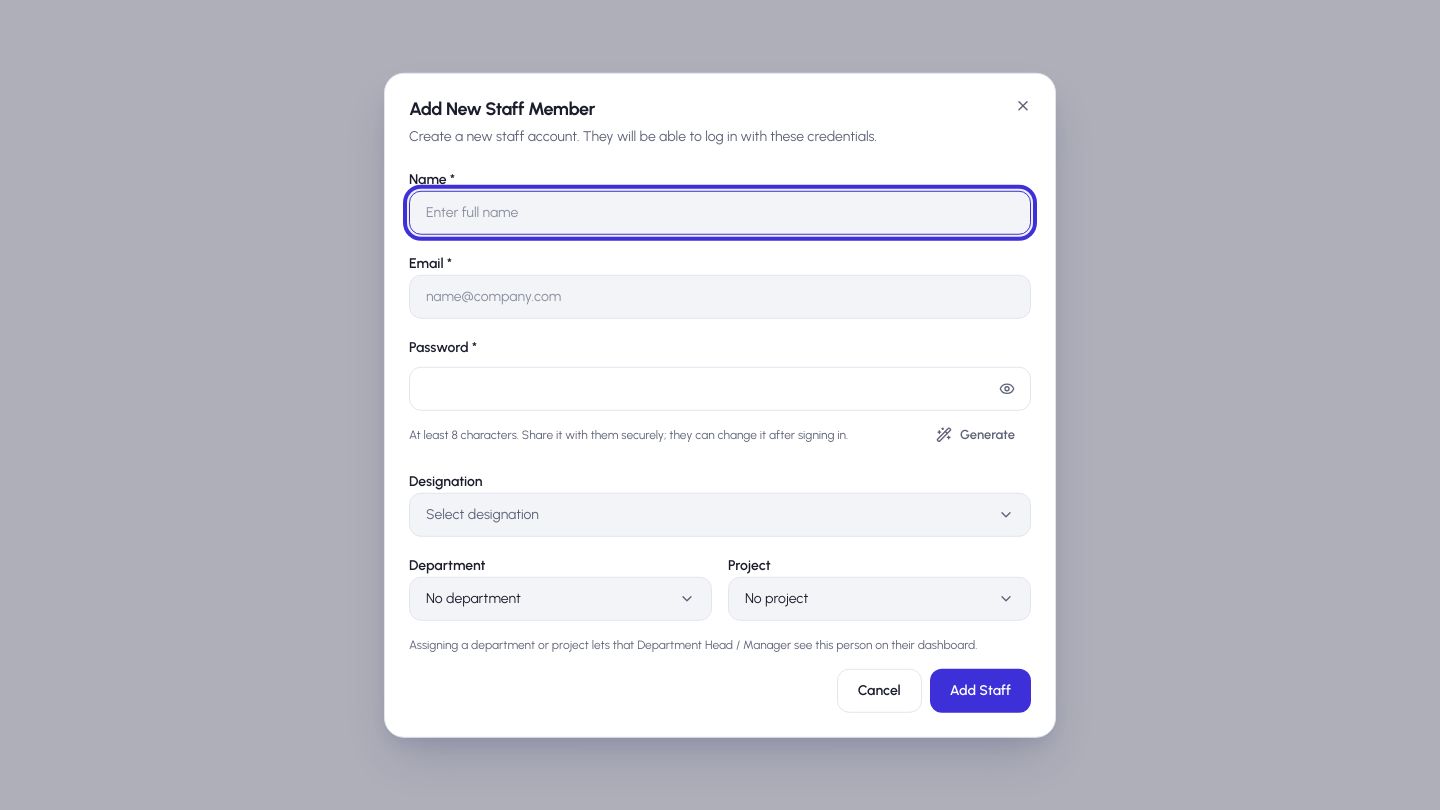
Test: StaffFormDialog › the password can be generated and revealed
The width and height of the screenshot is (1440, 810).
Step 1. Click the button "Generate" → (976, 434), box 920,416 -> 1031,452
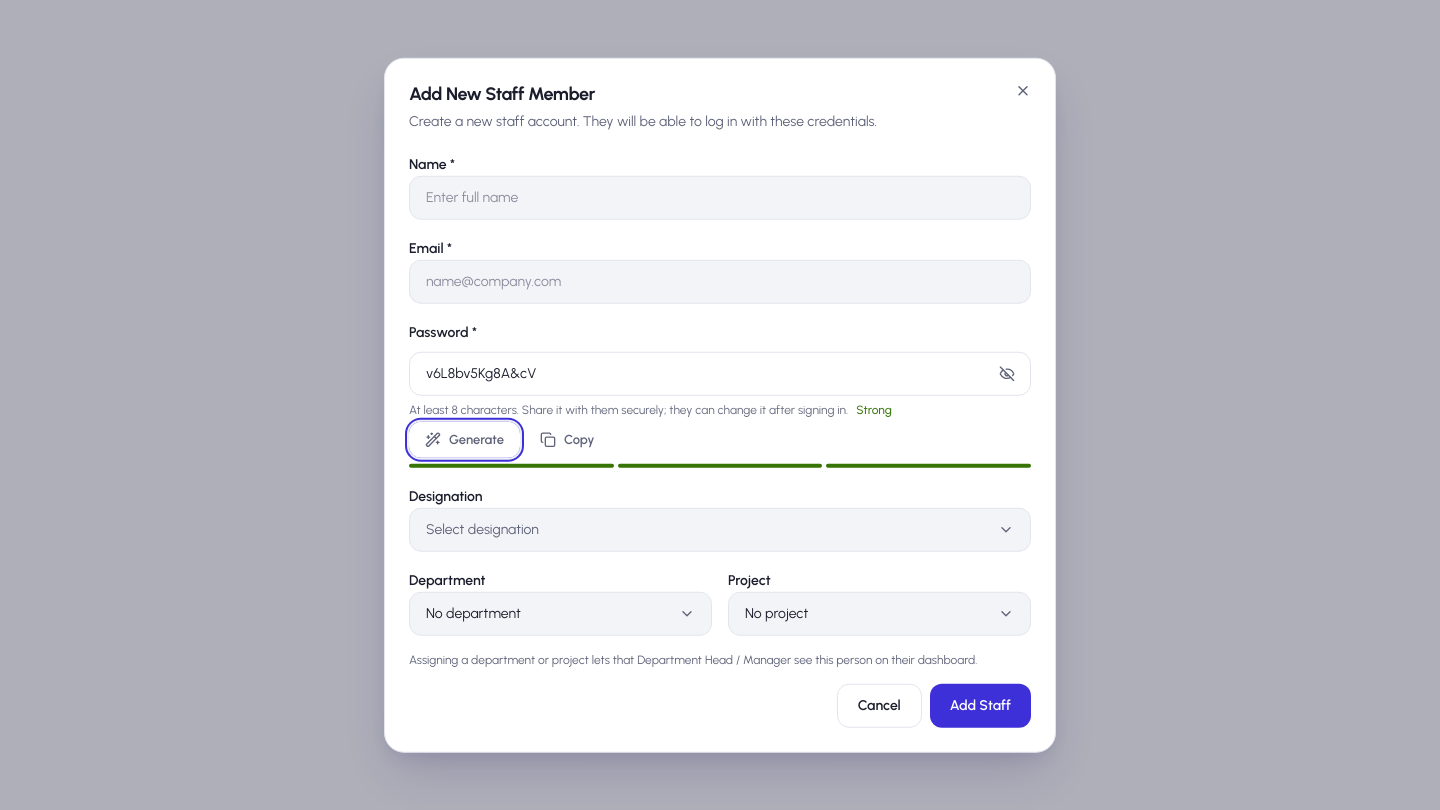
expect the field labelled "Password *" shows its text: met, box 409,351 -> 1031,395
